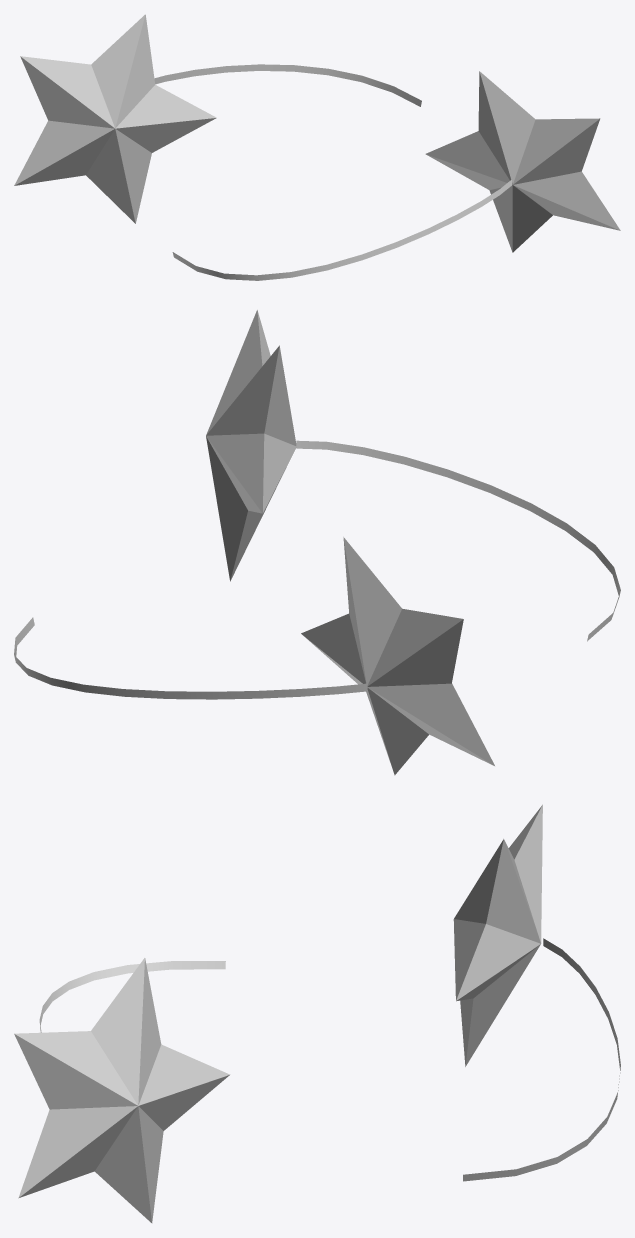
File: Confuse.obj
3 views of the same model, one above another, from view 1: azimuth 30°, elevation 25°; view 2: azimuth 150°, elevation 25°; view 3: azimuth 270°, elevation 25° (orthographic). The views are drawn at different scales.
Parts seen in each view (by area): view 1: 円.001, 円, ベジエカーブ.001, ベジエカーブ; view 2: 円.001, 円, ベジエカーブ, ベジエカーブ.001; view 3: 円, 円.001, ベジエカーブ, ベジエカーブ.001.
Part boxes in pixels (bbox=[...]): 円.001: bbox=[14, 14, 216, 223]; 円: bbox=[425, 71, 620, 252]; ベジエカーブ.001: bbox=[172, 179, 511, 280]; ベジエカーブ: bbox=[154, 64, 421, 106]; 円.001: bbox=[301, 537, 494, 775]; 円: bbox=[206, 310, 296, 581]; ベジエカーブ: bbox=[14, 617, 367, 699]; ベジエカーブ.001: bbox=[296, 440, 620, 641]; 円: bbox=[14, 958, 229, 1223]; 円.001: bbox=[453, 804, 542, 1066]; ベジエカーブ: bbox=[463, 938, 620, 1181]; ベジエカーブ.001: bbox=[39, 961, 225, 1032].
Bounding box in the file's own units: 2.02 × 0.9079 × 2.05.
1 material, 1 textured.
